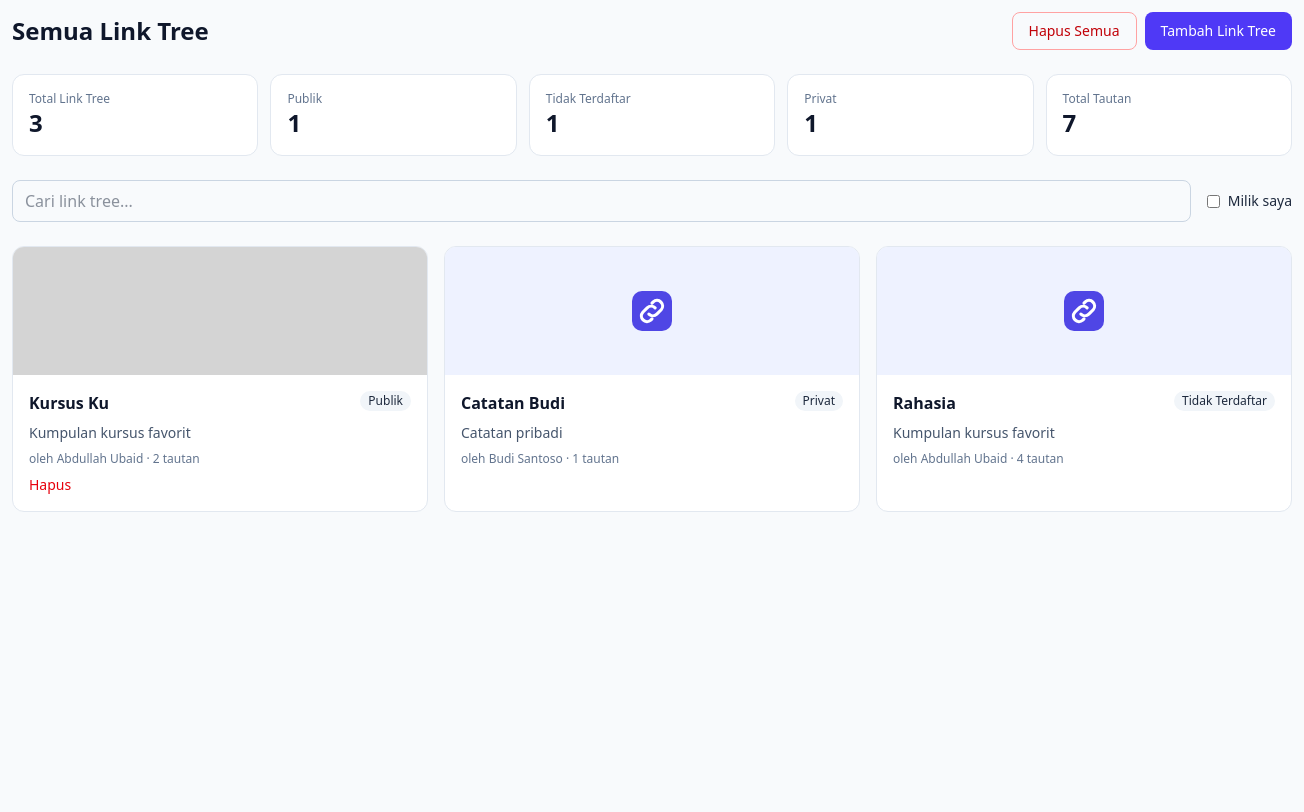
it: HomePage › menampilkan error saat penghapusan gagal tanpa memuat ulang
Click the button with aria-label "Hapus Kursus Ku" at (50, 485), box [29,475,71,495]
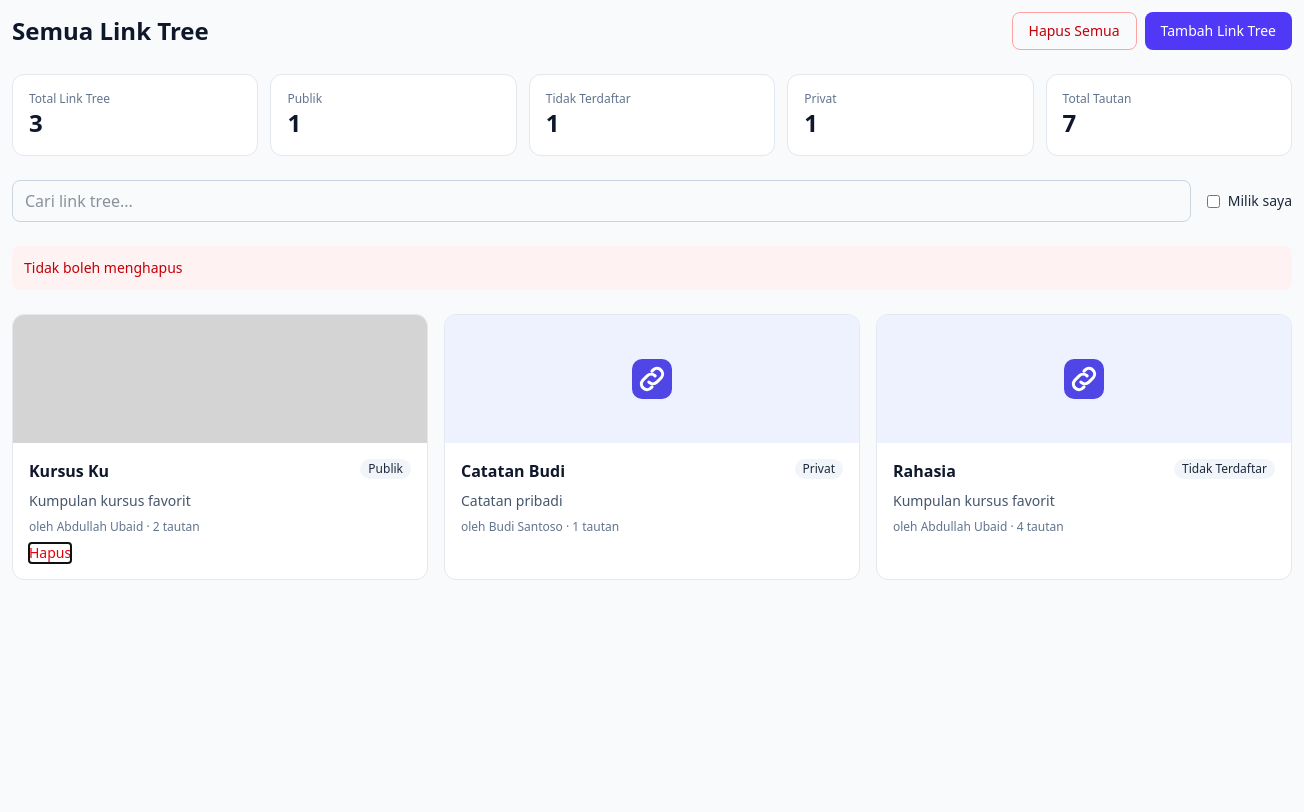
expect the message reads "Tidak boleh menghapus": met, box [24,258,183,277]
